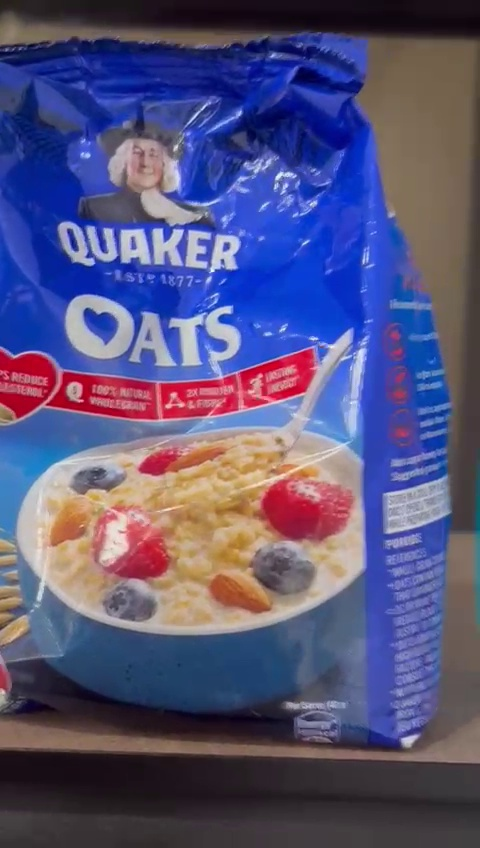Quaker Oats: (0, 40, 439, 740)
